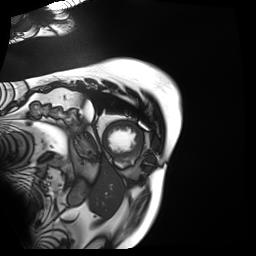ventricle: (110, 128, 135, 153)
